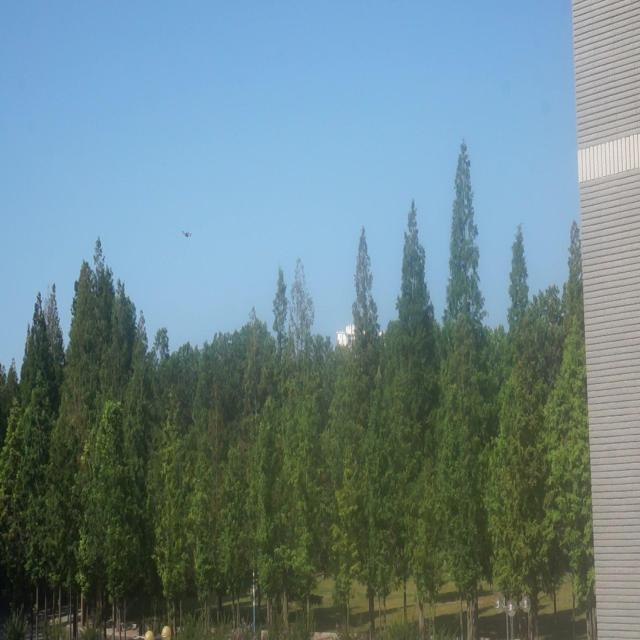drone: (179, 224, 195, 246)
